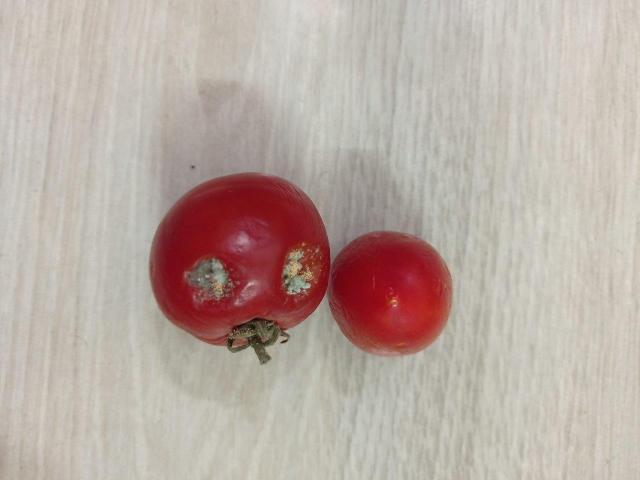defect: (144, 165, 330, 372), (334, 229, 455, 361)
